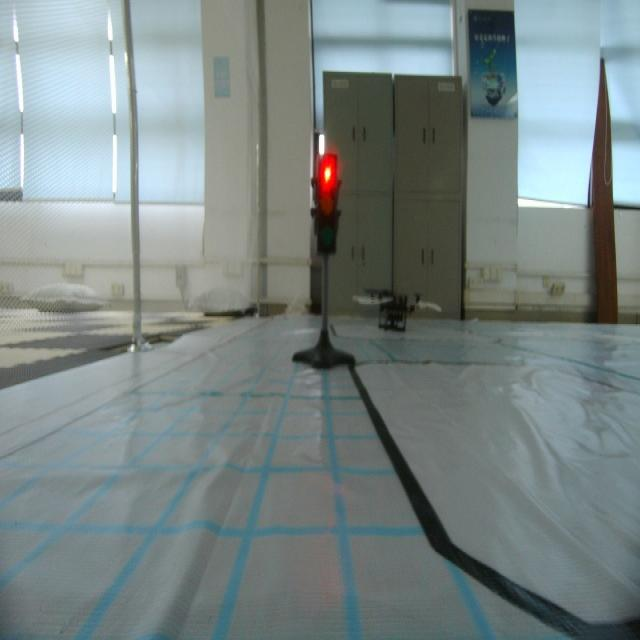red: (309, 152, 345, 261)
